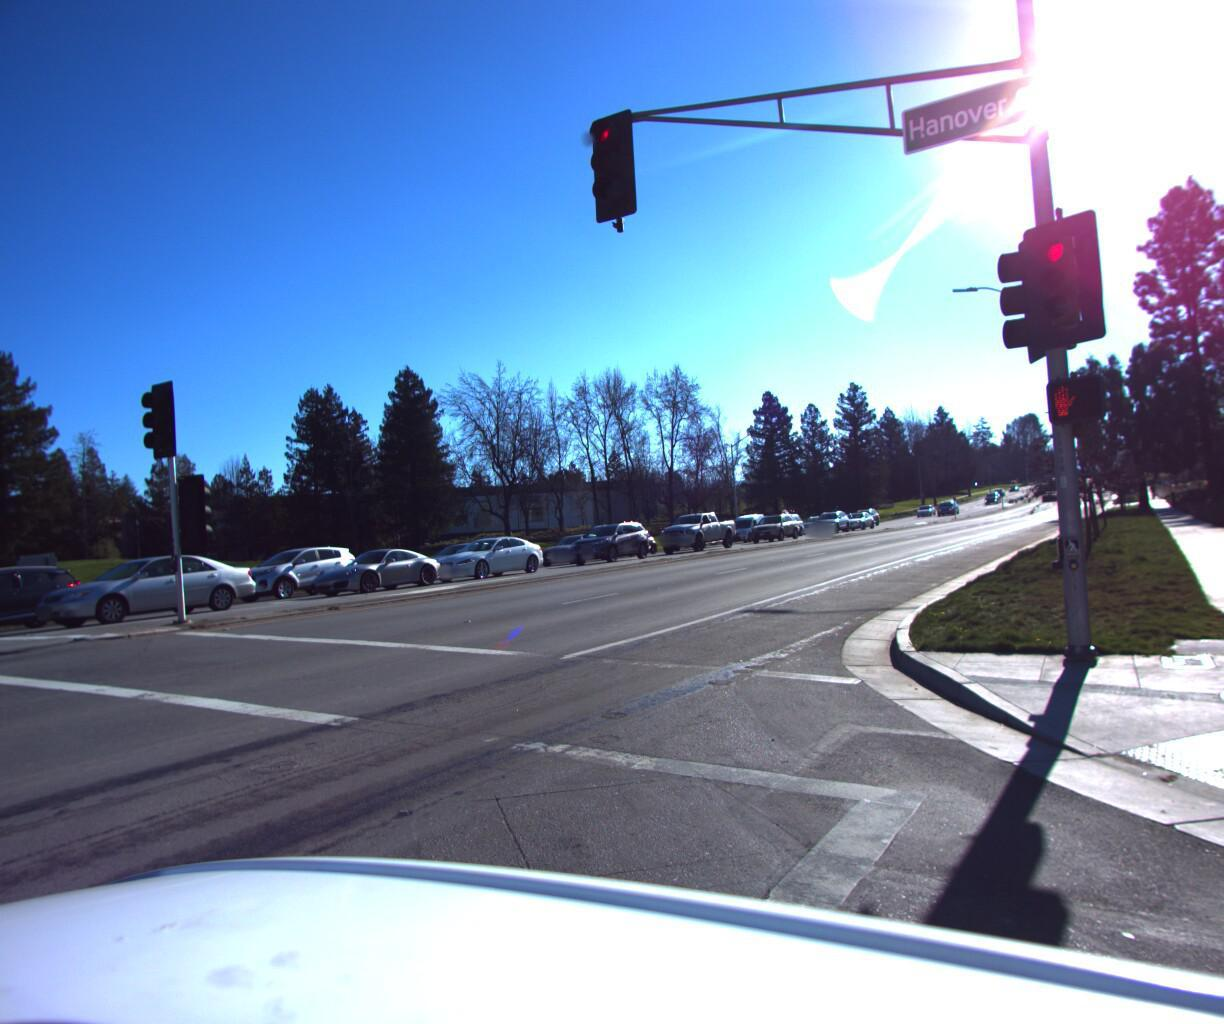car: (23, 543, 264, 625), (219, 537, 370, 598), (295, 537, 449, 593), (0, 555, 100, 638), (421, 525, 555, 578), (558, 513, 655, 560), (650, 506, 740, 550), (529, 527, 614, 561), (744, 503, 800, 538), (718, 507, 770, 537), (807, 504, 849, 530), (834, 502, 873, 525)
